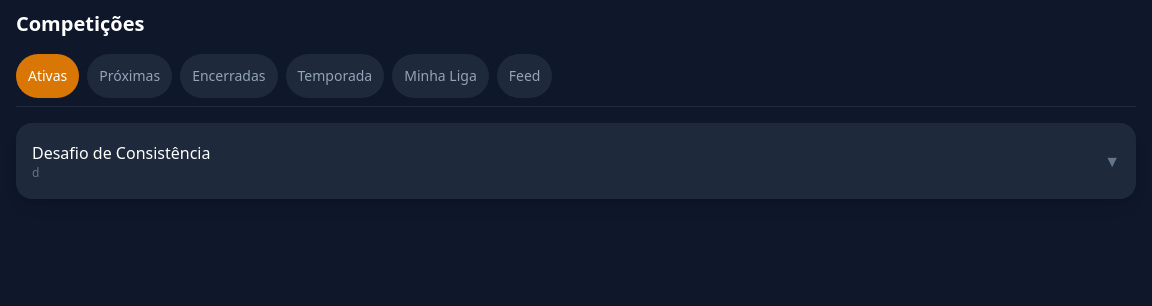
Test case: Competicoes › aba Temporada só aparece quando há season ativa, mostra ranking de Season Points (nunca faturamento)
The width and height of the screenshot is (1152, 306).
Check: the text "Desafio de Consistência" is shown, box [32,141,210,165]
Click the button "Temporada": (335, 76) [286,54,384,98]
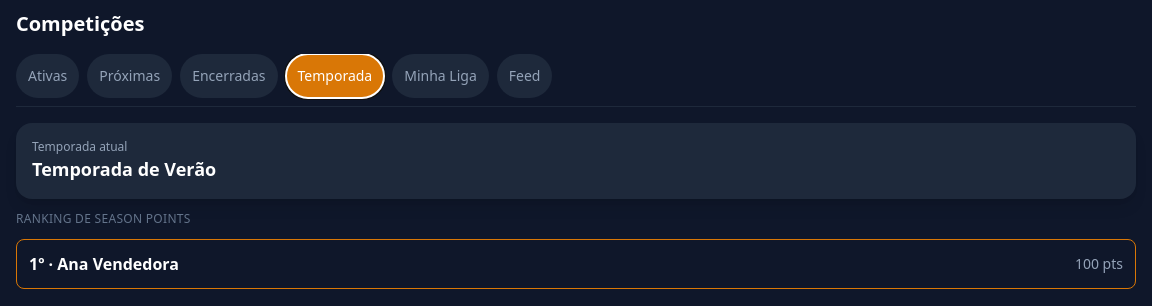
Check: the text "Temporada de Verão" is shown, box [32,157,216,181]
Check: the text "100 pts" is shown, box [1075,254,1123,274]
